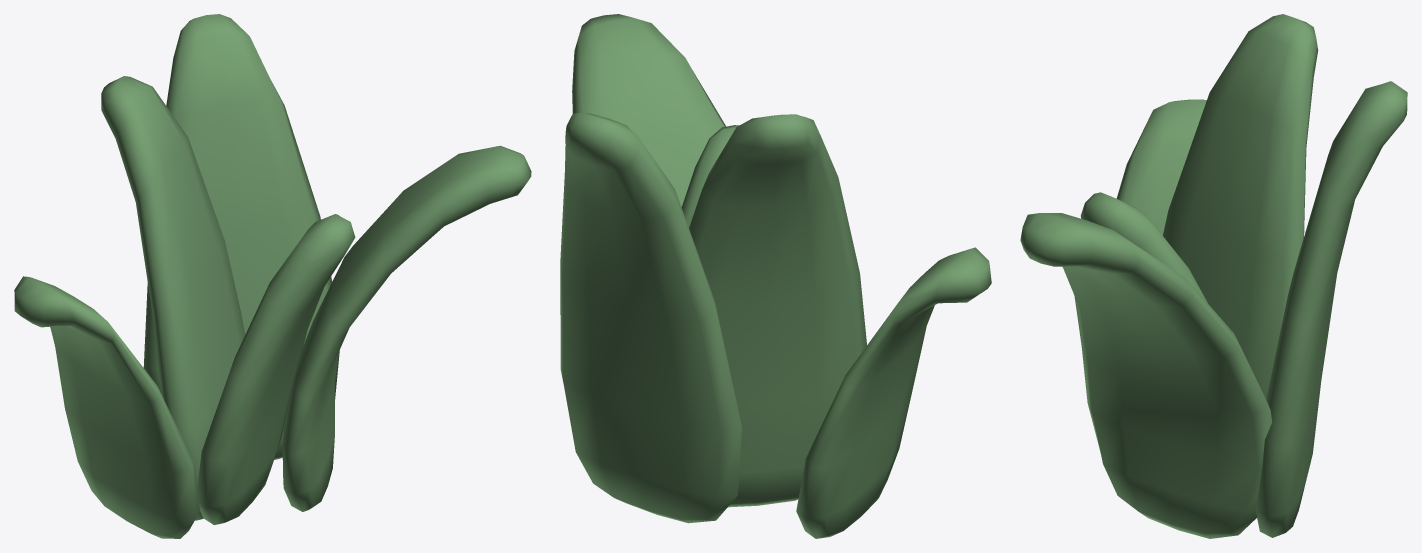
File: grass2.fbx
3 renders of one model, left to right at view 1: azimuth 30°, elevation 25°; view 2: azimuth 150°, elevation 25°; view 3: azimuth 270°, elevation 25°, orthographic. The views are drawn at different scales.
Parts seen in each view (by area): view 1: grass2; view 2: grass2; view 3: grass2.
Part boxes in pixels (x1,y1,x2,y2): grass2: (14, 14, 531, 538); grass2: (560, 14, 991, 538); grass2: (1020, 14, 1407, 538).
Bounding box in the file's own units: 181 × 161 × 128.
